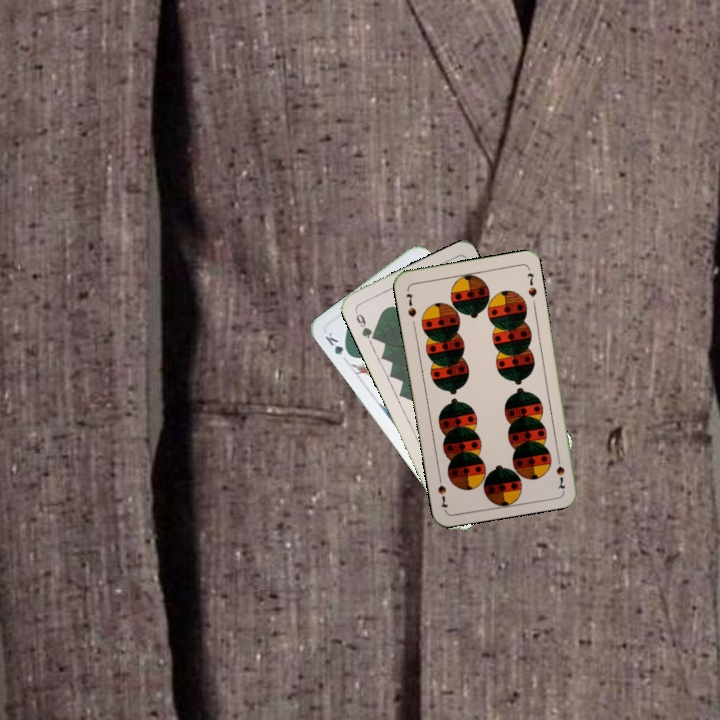G9: (351, 306, 378, 342)
GK: (321, 328, 354, 360)
S7: (552, 451, 568, 492), (402, 290, 419, 320)
